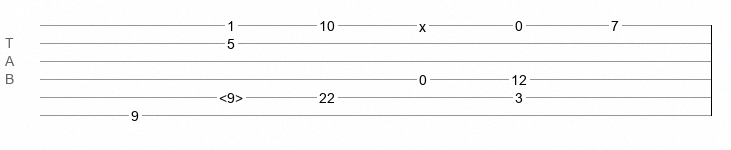0: (419, 72, 427, 82), (515, 18, 523, 28)
1: (227, 18, 235, 28)
10: (319, 18, 335, 28)
12: (511, 72, 527, 82)
22: (319, 90, 335, 100)
3: (515, 90, 523, 100)
5: (227, 36, 235, 46)
7: (611, 18, 619, 28)
9: (131, 108, 139, 118)
harmonic: (219, 90, 243, 100)
x: (419, 19, 426, 27)
